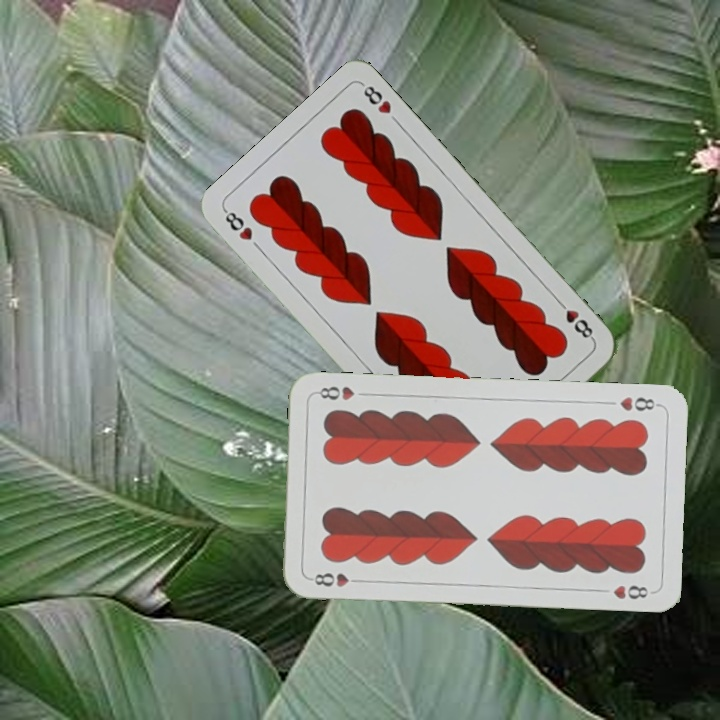H8: (552, 295, 597, 343), (220, 205, 255, 243), (306, 569, 365, 590), (616, 393, 662, 414)
